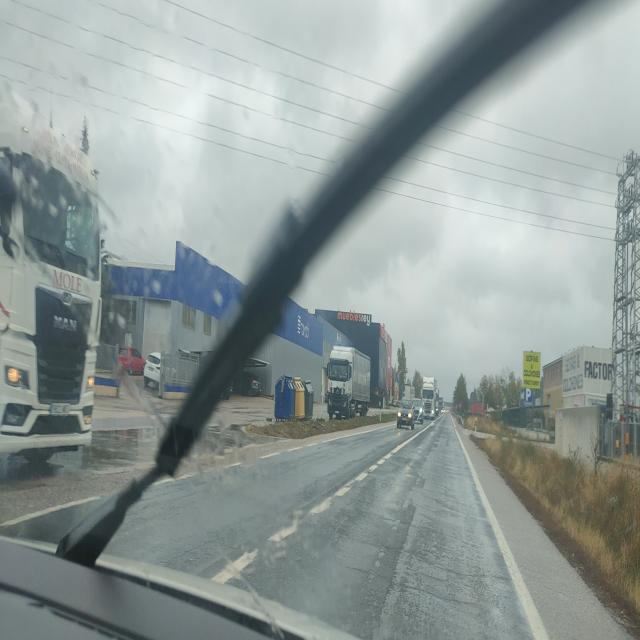Poth-hole: (337, 556, 477, 622), (350, 531, 476, 582)
